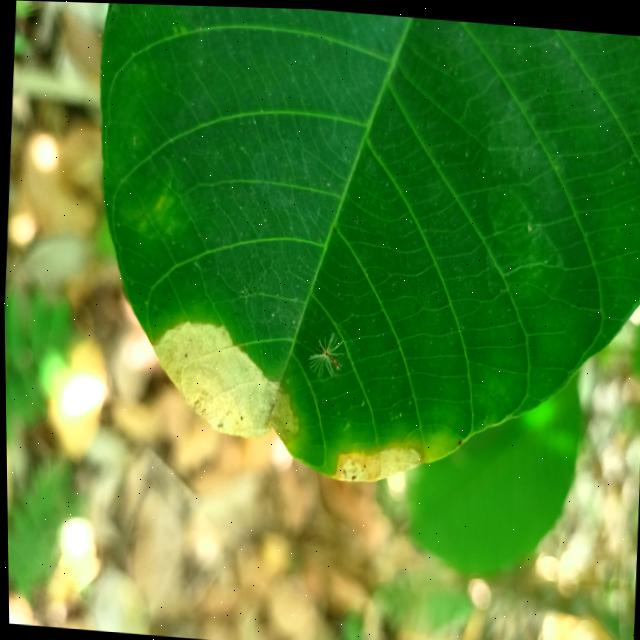Leaf-Blight: (147, 316, 304, 443), (332, 437, 423, 484)
